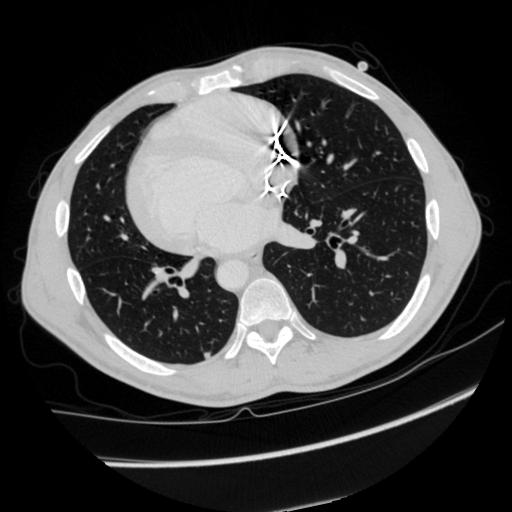nodule: (201, 348, 215, 362)
